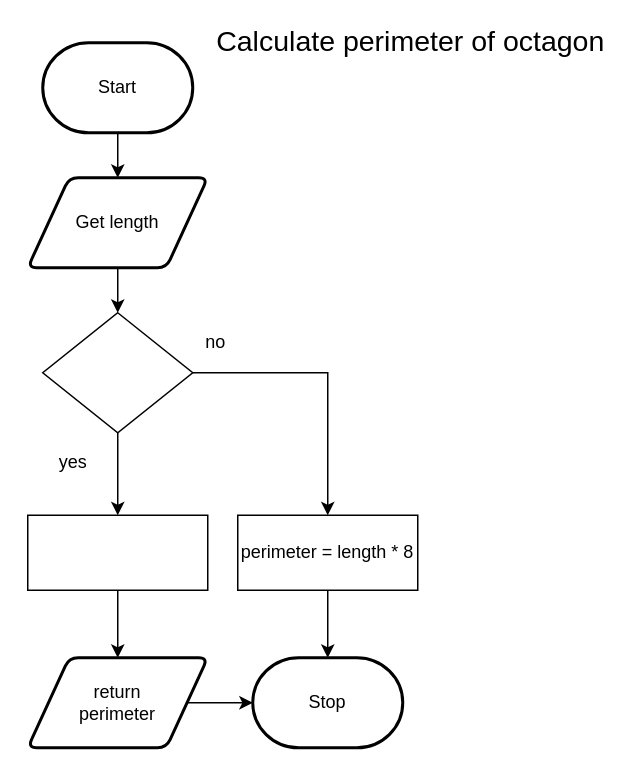
The diagram is 638 pixels wide and 776 high, and some of its shapes have lost their labels. Here are the shapes that lost their labels. From the top down, the centre of each, then its label:
[117,372]: if length < 0:
[117,552]: return -1
